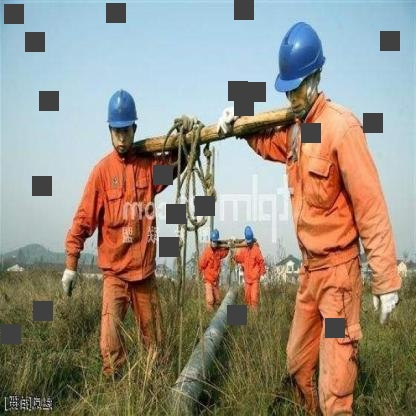blue: (274, 16, 329, 99), (104, 84, 144, 132), (245, 219, 256, 244), (209, 225, 224, 240)
